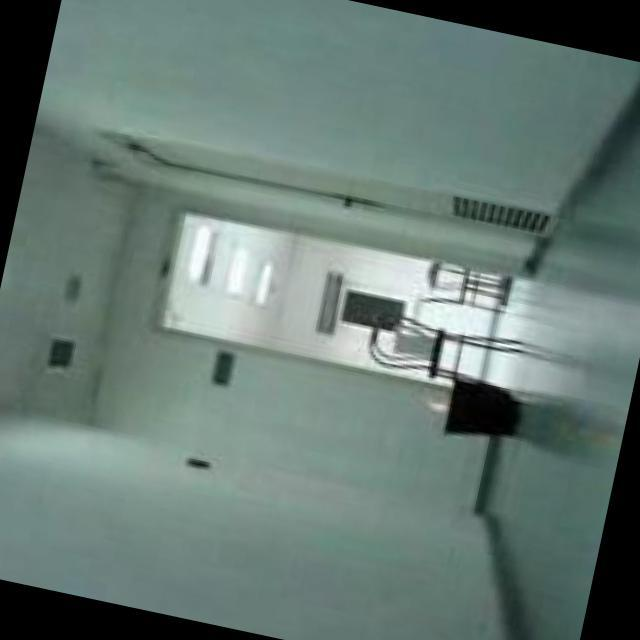Fire: (430, 399, 445, 419)
